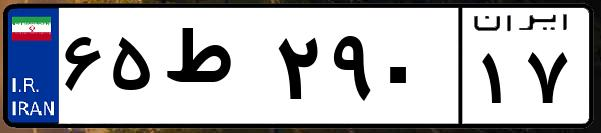0: (385, 28, 445, 110)
1: (475, 38, 525, 113)
2: (270, 28, 330, 110)
5: (110, 28, 158, 98)
6: (57, 26, 110, 100)
7: (525, 38, 570, 115)
9: (330, 28, 385, 110)
ط: (158, 20, 270, 120)
